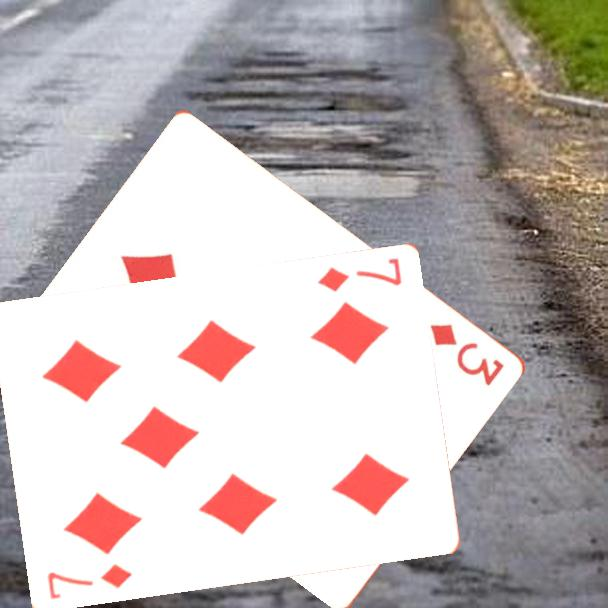d03: (427, 320, 508, 389)
d07: (43, 561, 134, 603), (314, 255, 404, 295)
